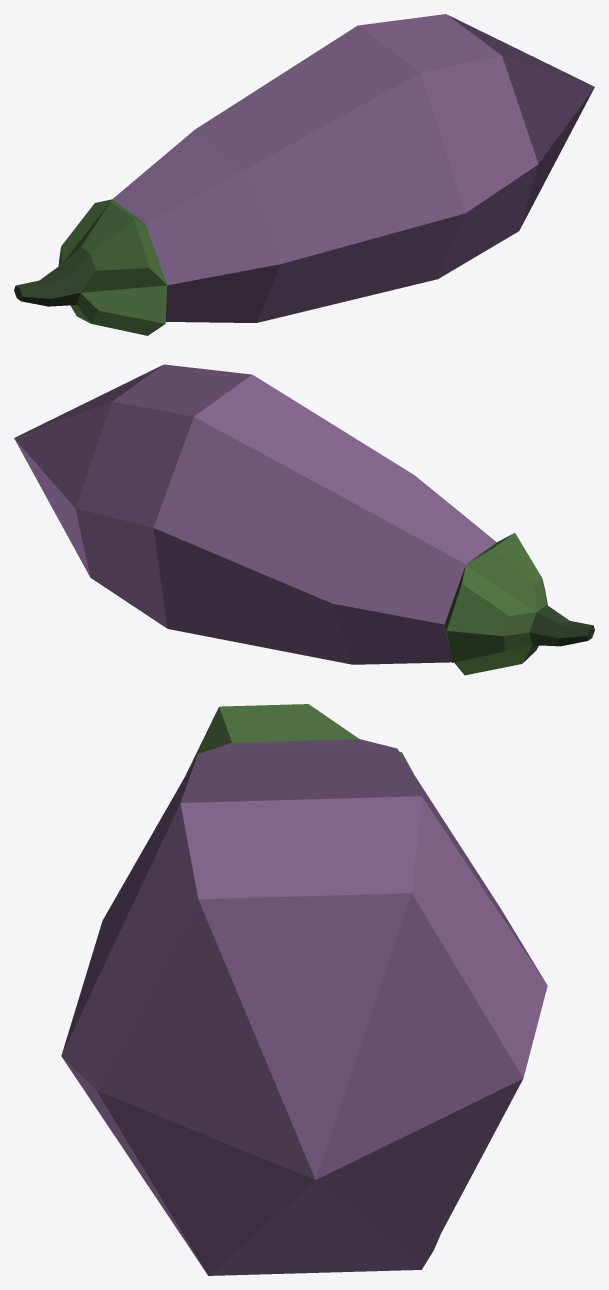
3 renders of one model, top to bottom at view 1: azimuth 30°, elevation 25°; view 2: azimuth 150°, elevation 25°; view 3: azimuth 270°, elevation 25°, orthographic. The views are drawn at different scales.
Visible parts, largest first — view 1: 茄子_pCylinder5; view 2: 茄子_pCylinder5; view 3: 茄子_pCylinder5.
Part boxes in pixels (<box>): 茄子_pCylinder5: <box>14,14,594,335</box>; 茄子_pCylinder5: <box>14,364,594,675</box>; 茄子_pCylinder5: <box>61,704,547,1275</box>.
Bounding box in the file's own units: 6.84 × 2.46 × 2.52.
Materials: 1 (1 with a texture image).
